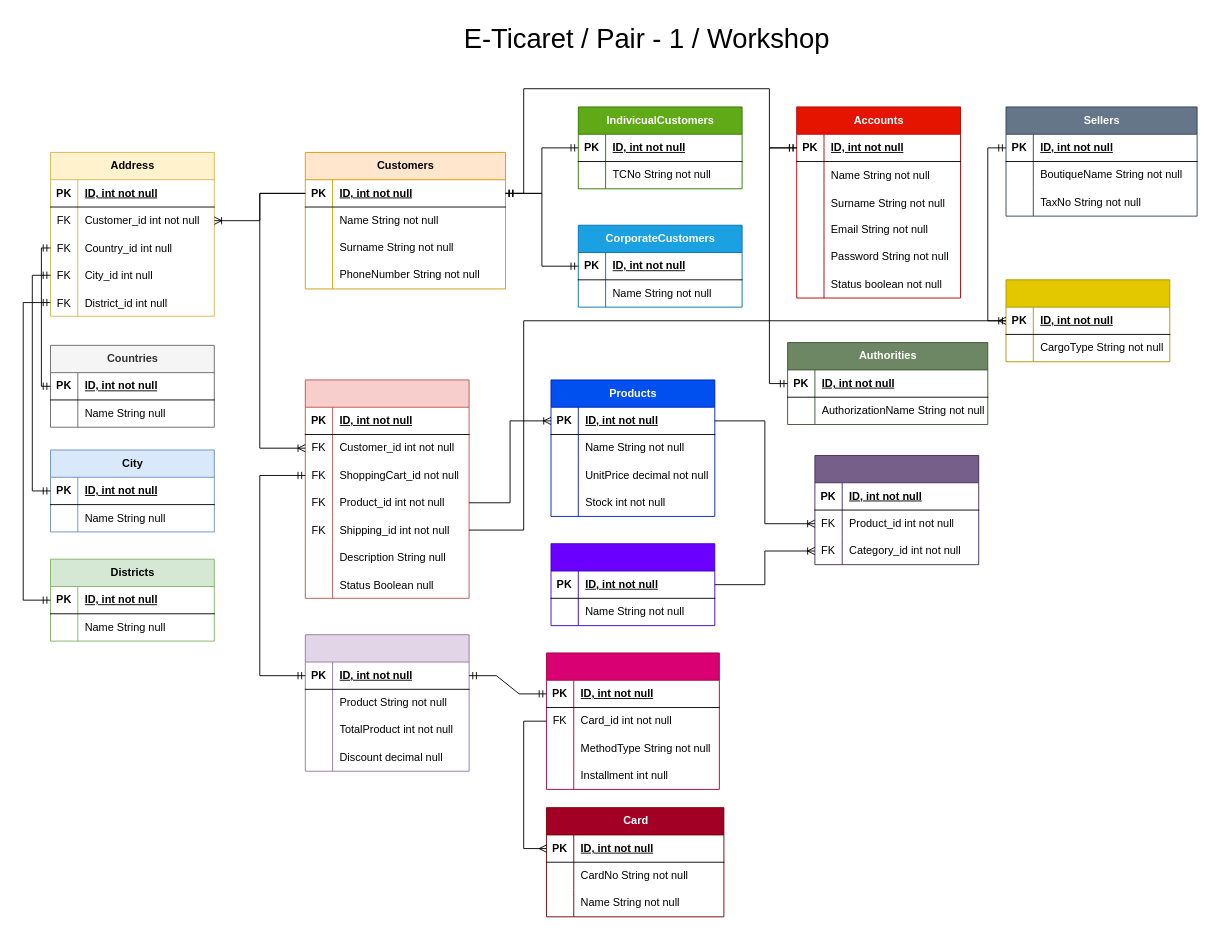
Some shapes in this 1213 by 933 pixel diagram are drawn without their labels. Here are the shapes that lost their labels. From the top down, the box of each, then its label:
(1005, 279, 1170, 362): Shippings
(304, 379, 469, 598): Orders
(814, 455, 979, 565): ProductCategories
(550, 543, 715, 626): Category
(304, 634, 469, 771): ShoppingCart
(546, 652, 719, 789): Payment
